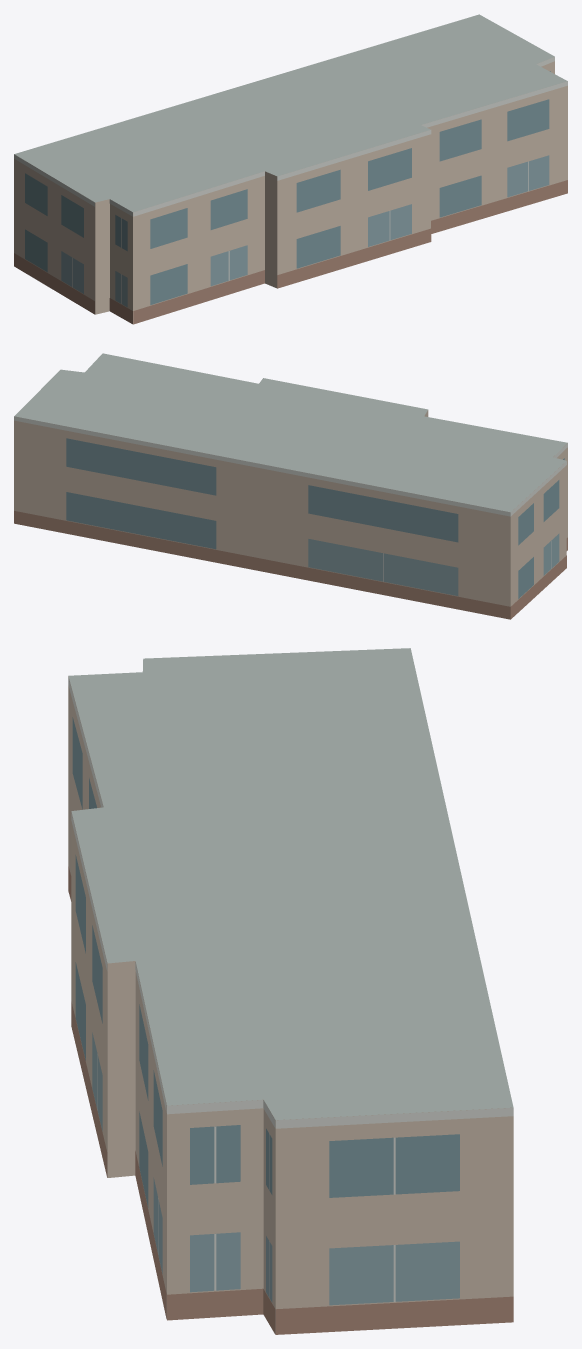
The model's file is survey-upis-32633875.glb.
3 views of the same model, one above another, from view 1: azimuth 30°, elevation 25°; view 2: azimuth 150°, elevation 25°; view 3: azimuth 270°, elevation 25° (orthographic). The views are drawn at different scales.
Visible parts, largest first — view 1: survey-upis-32633875.tmp; view 2: survey-upis-32633875.tmp; view 3: survey-upis-32633875.tmp.
Boxes of the visible parts, bbox=[...] form: survey-upis-32633875.tmp: bbox=[14, 14, 567, 324]; survey-upis-32633875.tmp: bbox=[14, 353, 567, 619]; survey-upis-32633875.tmp: bbox=[68, 648, 513, 1334].
Bounding box in the file's own units: 28.78 × 6.1 × 11.48.
